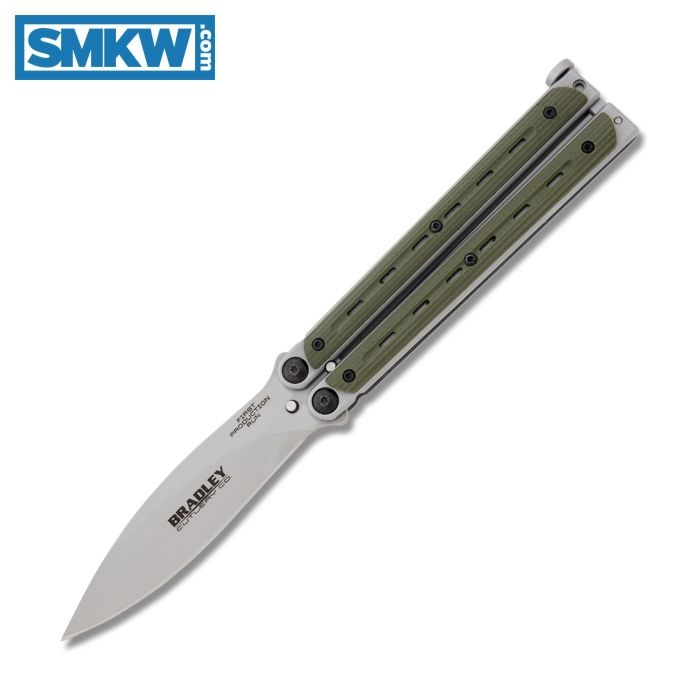knife: (48, 55, 653, 649)
